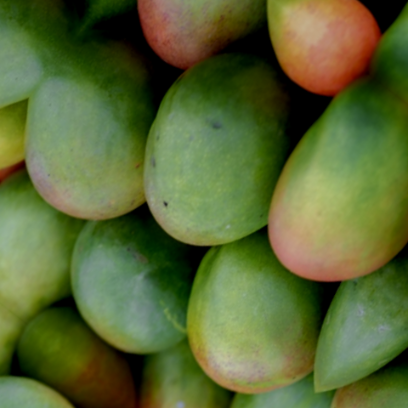mango: (86, 16, 359, 292), (0, 0, 234, 264), (216, 57, 408, 329), (15, 179, 241, 402)
